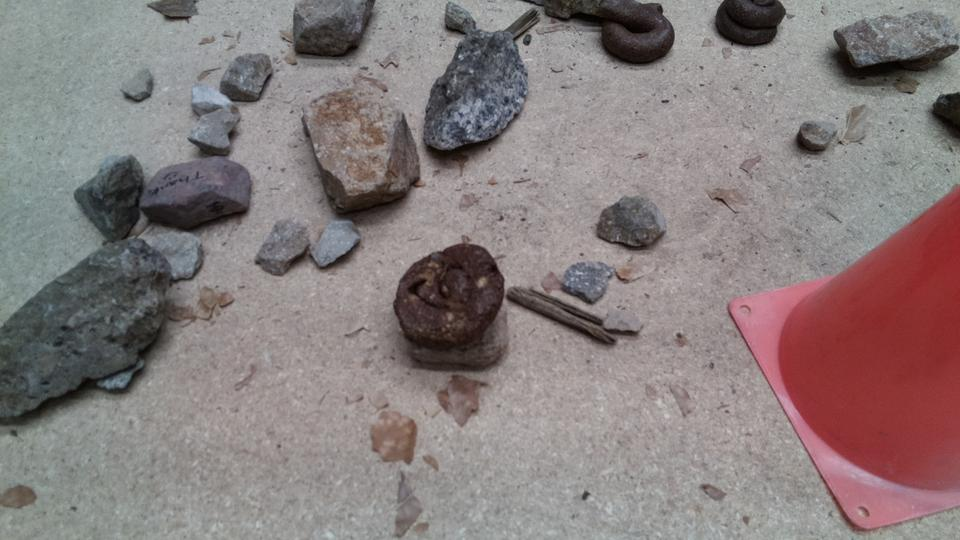poop: (391, 241, 505, 349), (597, 1, 675, 67), (714, 1, 787, 47)
